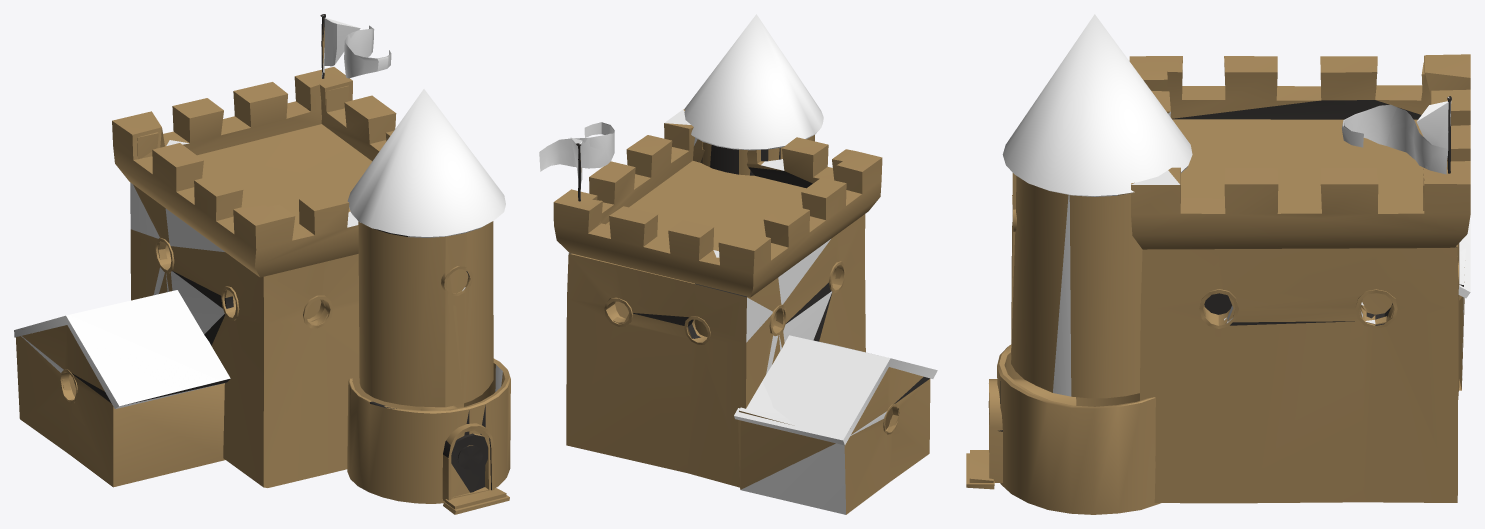
Rendered from castle.6.glb.
3 views of the same model, side by side, from view 1: azimuth 30°, elevation 25°; view 2: azimuth 150°, elevation 25°; view 3: azimuth 270°, elevation 25° (orthographic). The views are drawn at different scales.
Visible parts, largest first — view 1: castle; view 2: castle; view 3: castle.
Boxes of the visible parts, x1=… form: castle: x1=14, y1=14, x2=510, y2=514; castle: x1=539, y1=14, x2=937, y2=514; castle: x1=966, y1=14, x2=1470, y2=514.
Bounding box in the file's own units: 2.75 × 2.9 × 2.9.
